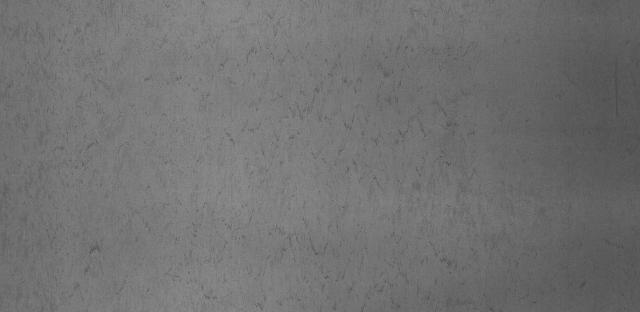silk_spot: (178, 60, 528, 281)
